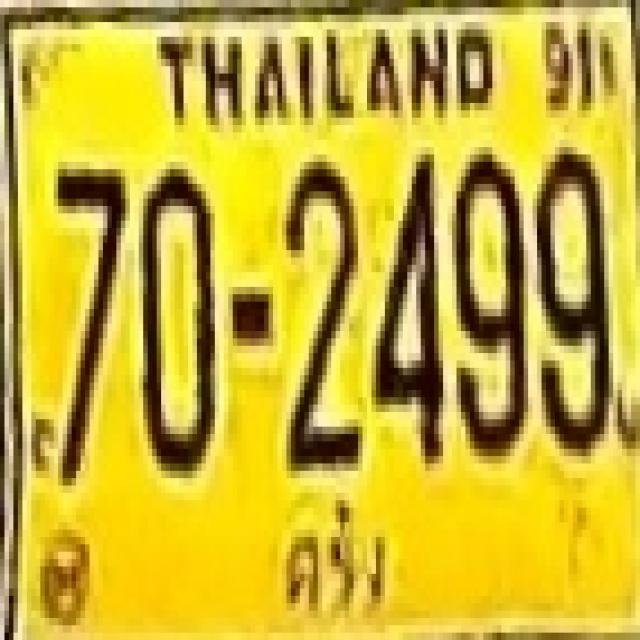0: (141, 162, 213, 471)
2: (282, 154, 354, 463)
4: (372, 147, 438, 456)
7: (54, 162, 125, 478)
9: (532, 140, 608, 449), (448, 147, 524, 449)
TRG: (278, 497, 396, 631)
